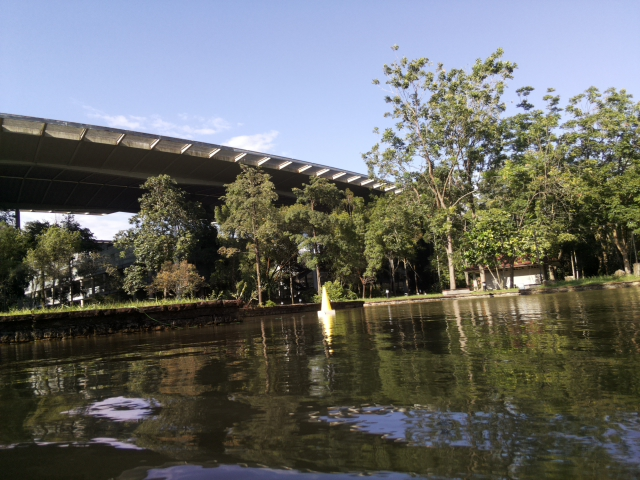checkpoint: (315, 284, 336, 317)
